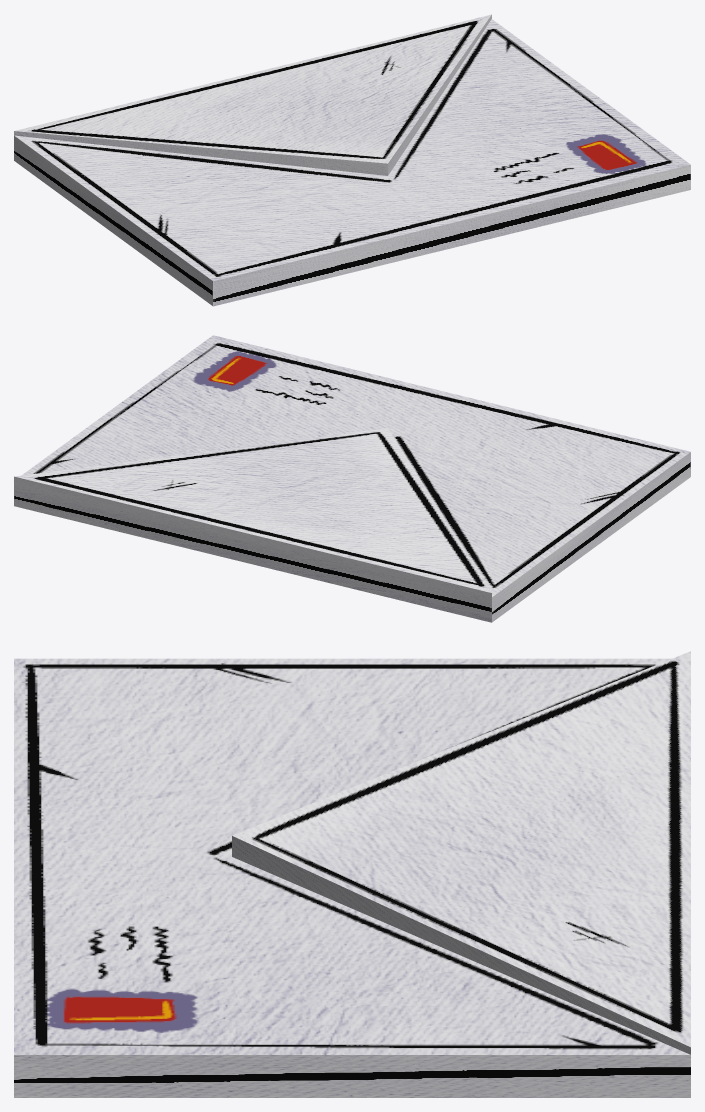
The model's file is Misc_mail.glb.
The picture shows the model from 3 angles, top to bottom: view 1: azimuth 30°, elevation 25°; view 2: azimuth 150°, elevation 25°; view 3: azimuth 270°, elevation 25°; orthographic projection. The views are drawn at different scales.
Visible parts, largest first — view 1: Cube; view 2: Cube; view 3: Cube.
Part boxes in pixels (bbox=[...]): Cube: bbox=[14, 14, 690, 306]; Cube: bbox=[14, 335, 690, 622]; Cube: bbox=[14, 651, 690, 1097].
Bounding box in the file's own units: 0.8778 × 0.0661 × 0.6337.
Materials: 1 (1 with a texture image).
